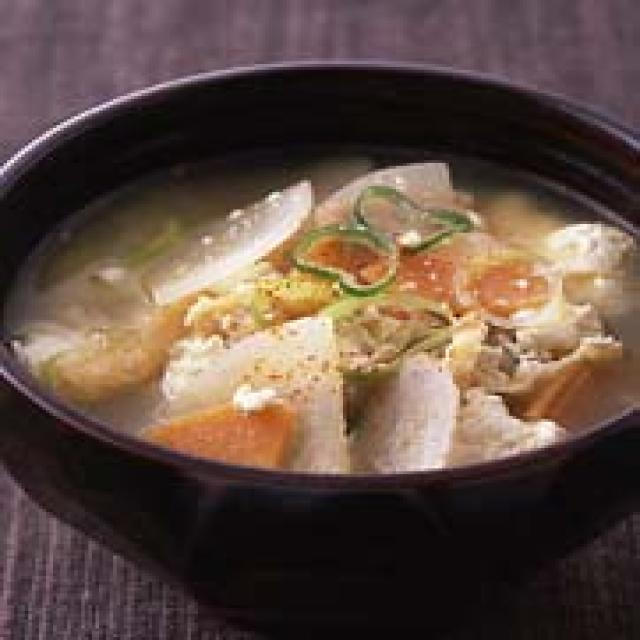蔬菜料理: (0, 11, 636, 640)
